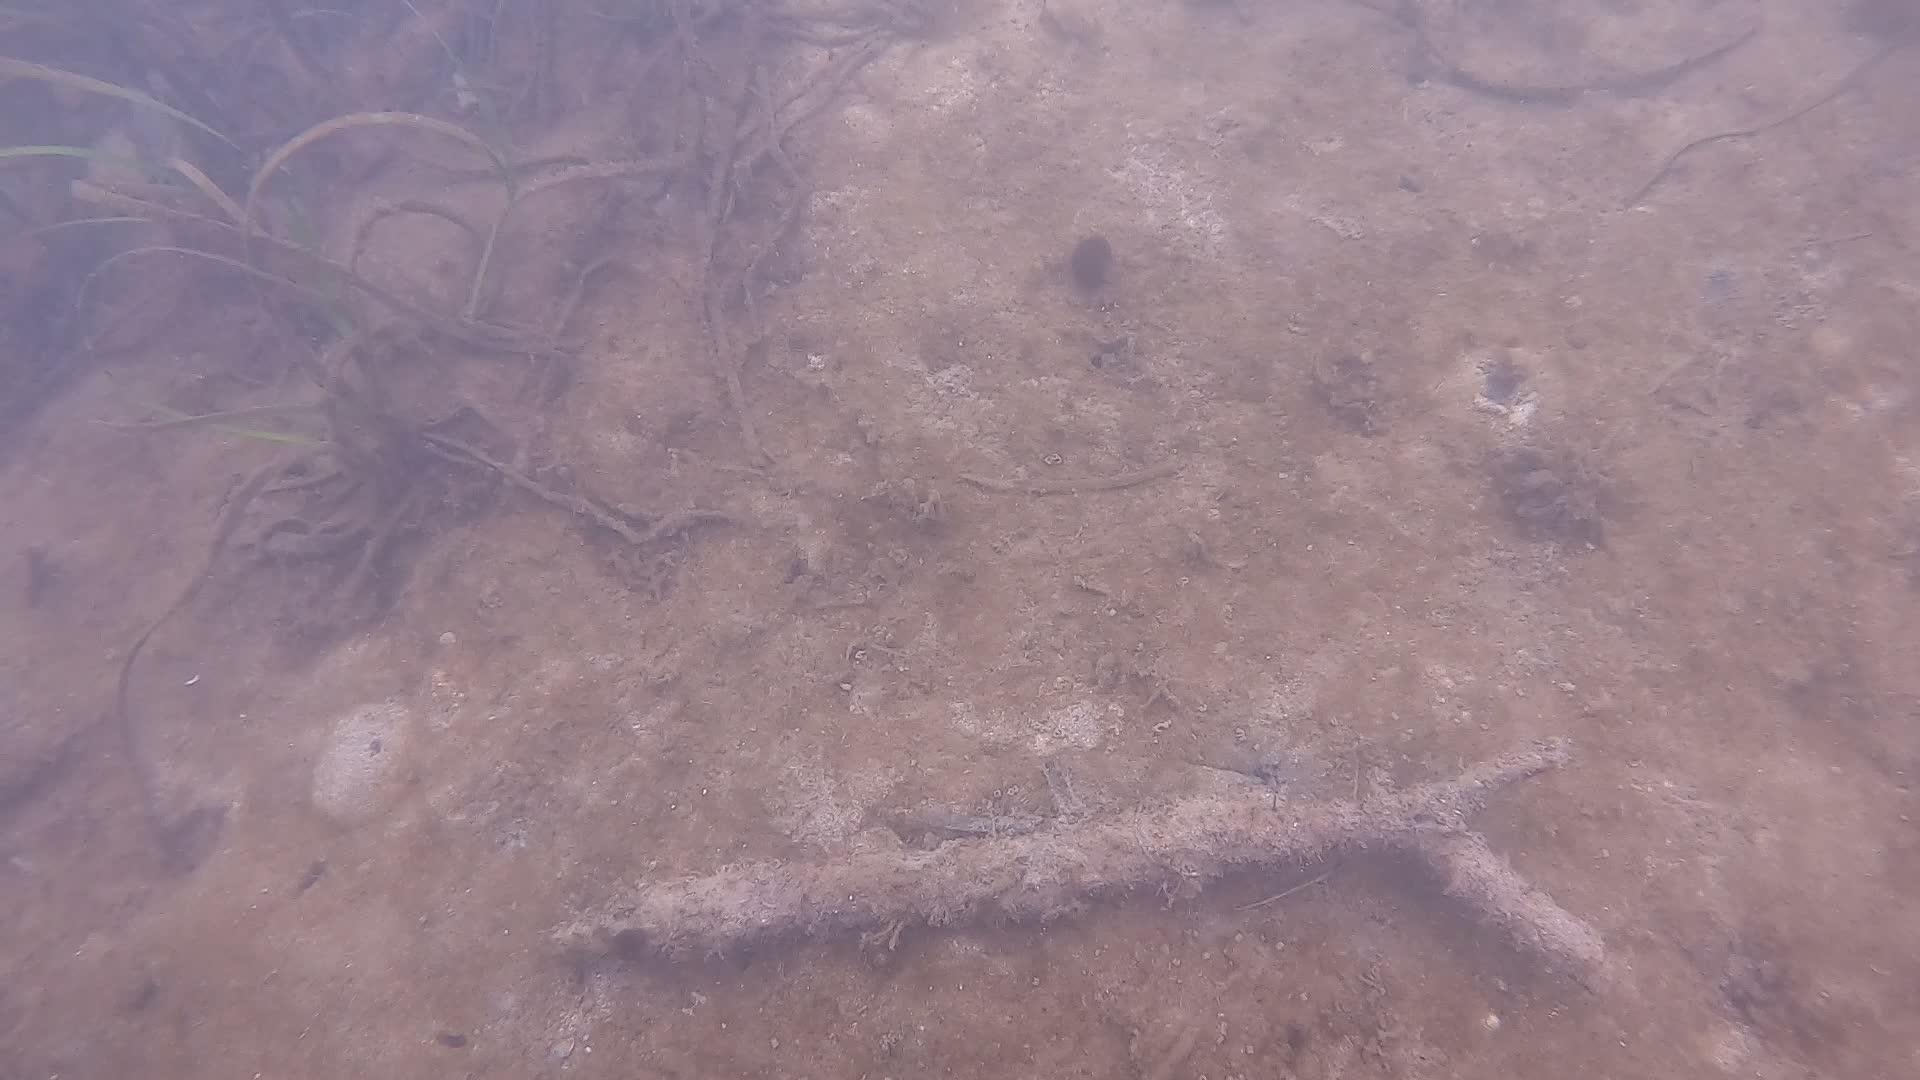wood: (547, 732, 1607, 980)
